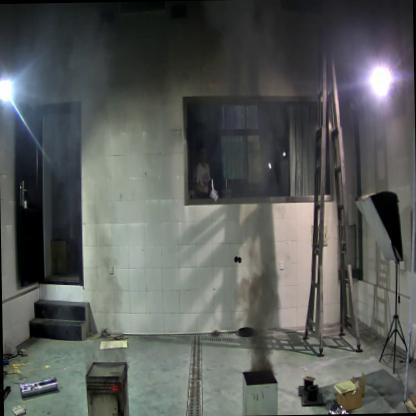smoke: (240, 262, 284, 368)
